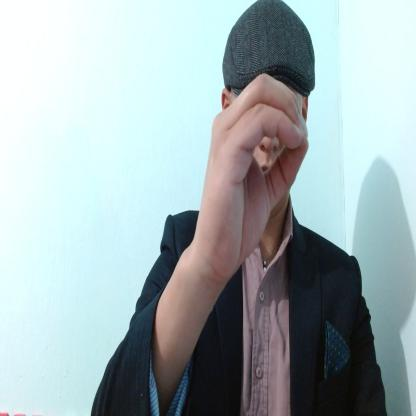O: (195, 70, 310, 274)
